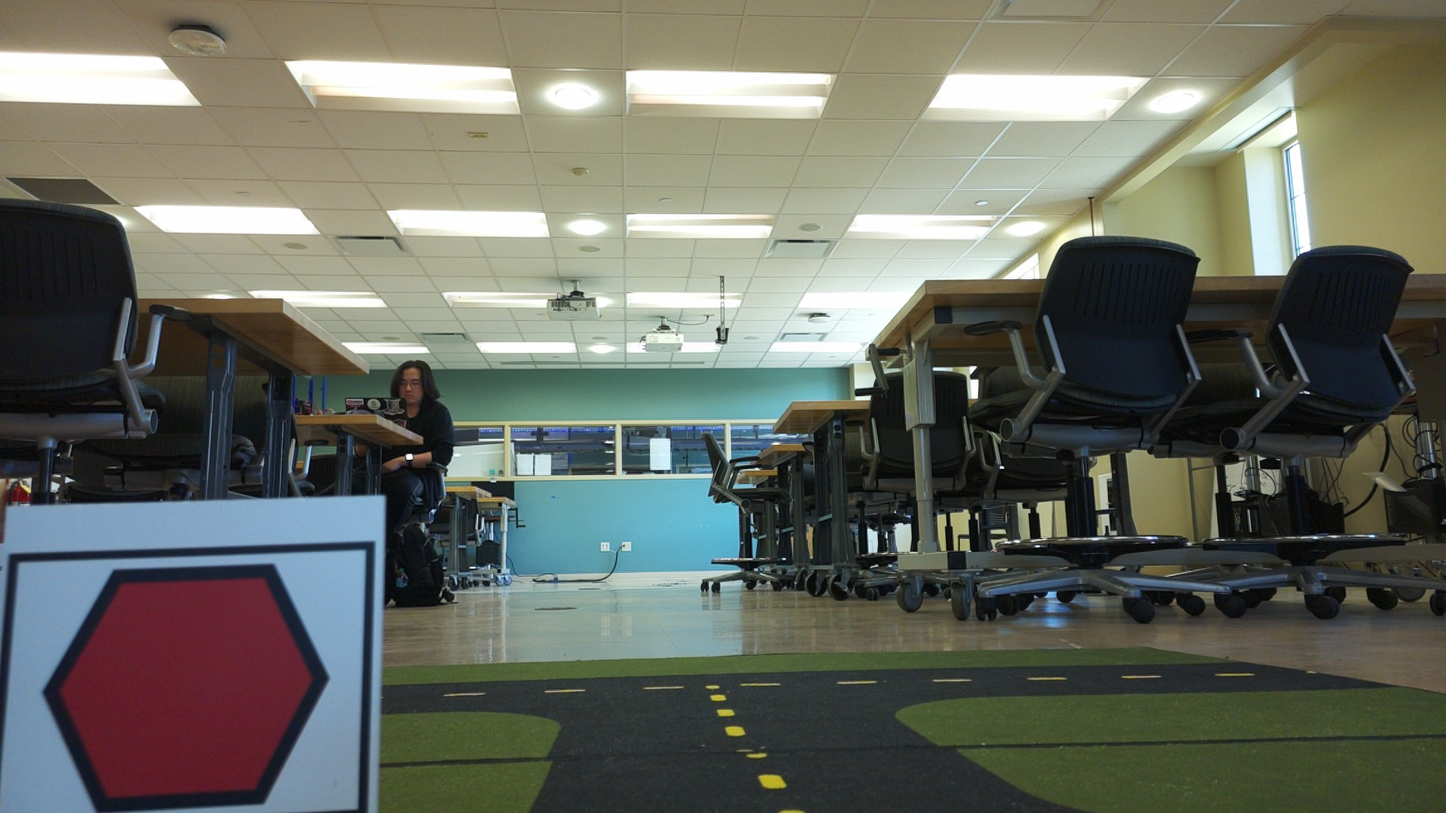stop: (24, 560, 347, 813)
yellowline: (712, 693, 786, 788)
